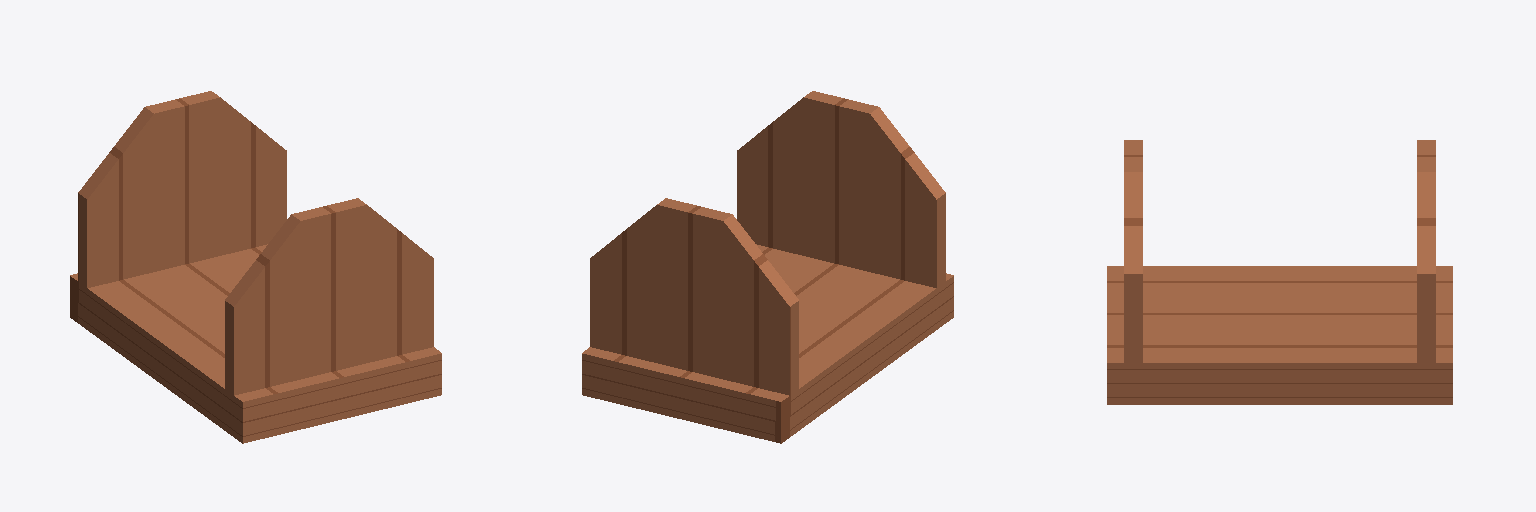
The picture shows the model from 3 angles: view 1: azimuth 30°, elevation 25°; view 2: azimuth 150°, elevation 25°; view 3: azimuth 270°, elevation 25°; orthographic projection.
Parts seen in each view (by area): view 1: Cube_Cube.001; view 2: Cube_Cube.001; view 3: Cube_Cube.001.
Boxes of the visible parts, x1=… form: Cube_Cube.001: x1=70, y1=91, x2=441, y2=443; Cube_Cube.001: x1=582, y1=91, x2=953, y2=443; Cube_Cube.001: x1=1107, y1=140, x2=1452, y2=404.
Size of the model in its own units: 2 by 1.92 by 3.
1 materials, 1 textured.